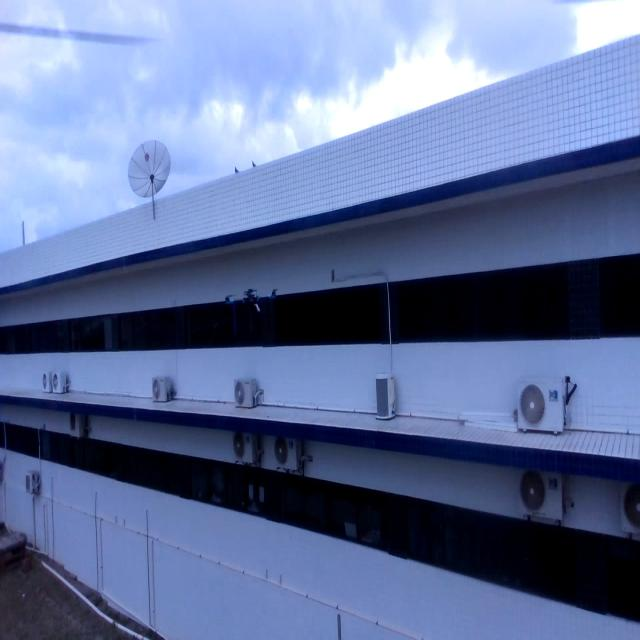-uav-: (218, 283, 288, 341)
